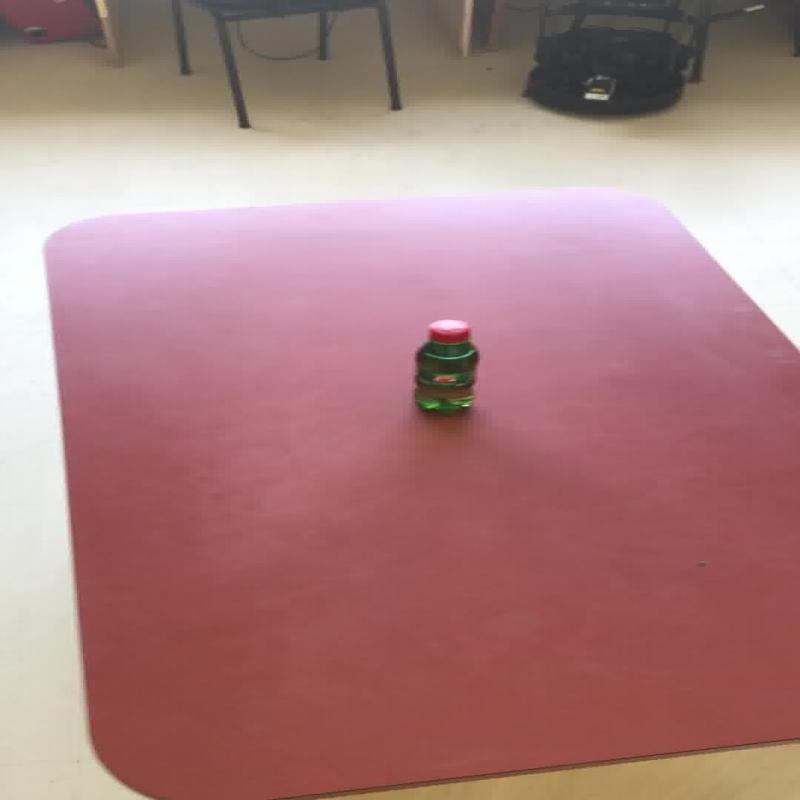guarana: (411, 318, 478, 413)
